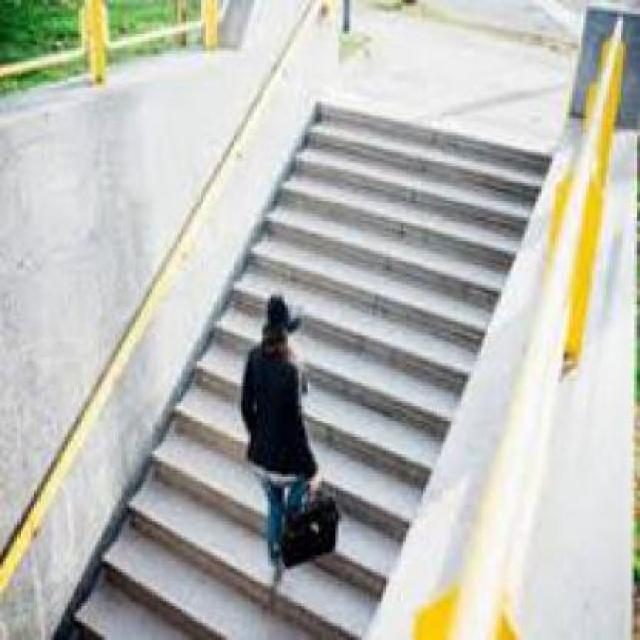stair: (257, 149, 491, 365)
